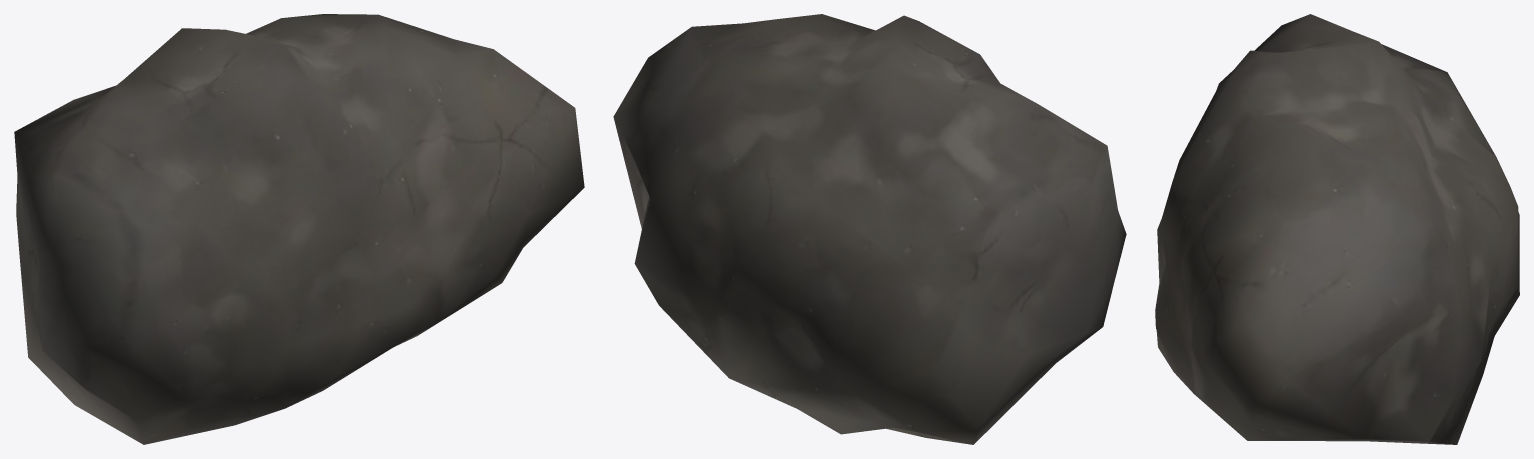
The model's file is asteroid_1.glb.
3 renders of one model, left to right at view 1: azimuth 30°, elevation 25°; view 2: azimuth 150°, elevation 25°; view 3: azimuth 270°, elevation 25°, orthographic. The views are drawn at different scales.
Parts seen in each view (by area): view 1: lod0; view 2: lod0; view 3: lod0.
Part boxes in pixels (box(x1,y1,x2,y2)): lod0: box(14, 14, 584, 444); lod0: box(613, 14, 1126, 444); lod0: box(1155, 14, 1519, 444).
Size of what is drawn, in the model's own units: 3 by 2.15 by 1.78.
1 material, 1 textured.
